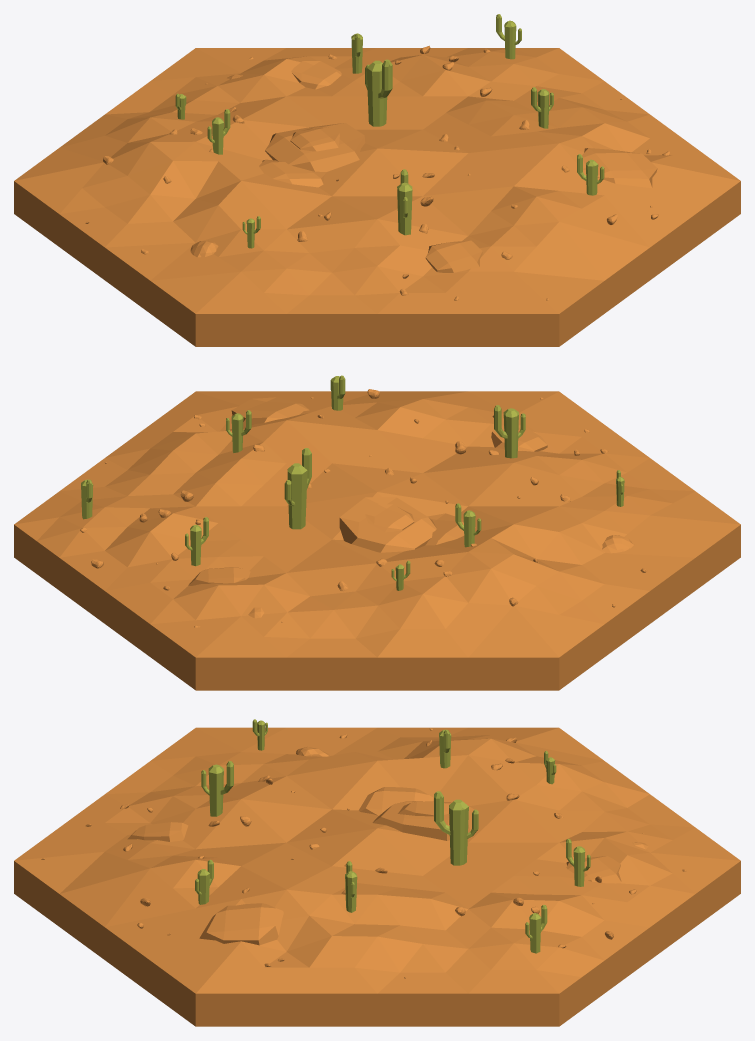
File: subtropicalDesert.glb
3 views of the same model, one above another, from view 1: azimuth 30°, elevation 25°; view 2: azimuth 150°, elevation 25°; view 3: azimuth 270°, elevation 25° (orthographic).
Visible parts, largest first — view 1: land, rocksbig, cactuses, rokcs; view 2: land, rocksbig, cactuses, rokcs; view 3: land, rocksbig, cactuses, rokcs.
Boxes of the visible parts, left/top/right/bottom form: land: left=14, top=48, right=740, bottom=346; rocksbig: left=259, top=61, right=657, bottom=272; cactuses: left=175, top=14, right=604, bottom=248; rokcs: left=85, top=45, right=669, bottom=300; land: left=14, top=391, right=740, bottom=690; rocksbig: left=188, top=397, right=547, bottom=585; cactuses: left=81, top=375, right=624, bottom=590; rokcs: left=80, top=389, right=647, bottom=627; land: left=14, top=727, right=740, bottom=1026; rocksbig: left=127, top=787, right=621, bottom=945; cactuses: left=195, top=719, right=590, bottom=953; rokcs: left=41, top=728, right=686, bottom=978.
Bounding box in the file's own units: 1.73 × 0.3678 × 2.
